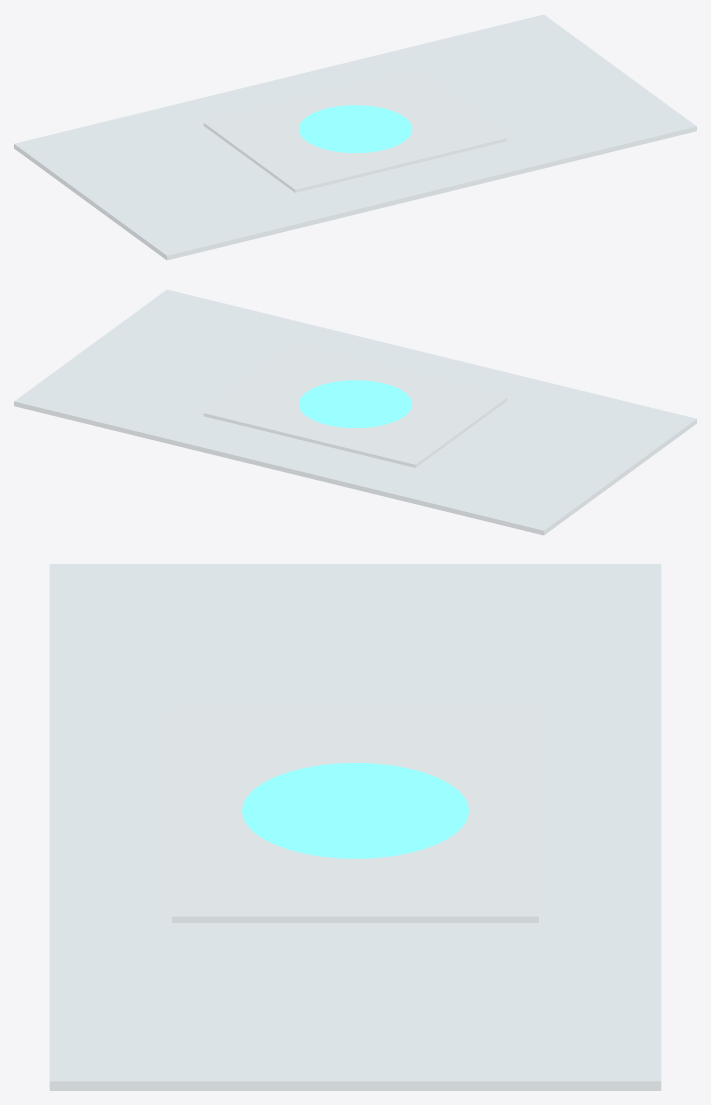
Rendered from microscope-slide.glb.
3 renders of one model, top to bottom at view 1: azimuth 30°, elevation 25°; view 2: azimuth 150°, elevation 25°; view 3: azimuth 270°, elevation 25°, orthographic. The views are drawn at different scales.
Visible parts, largest first — view 1: transparent_microscope_slide, raised_coverslip, glowing_sample_spot; view 2: transparent_microscope_slide, raised_coverslip, glowing_sample_spot; view 3: transparent_microscope_slide, raised_coverslip, glowing_sample_spot.
Part boxes in pixels (x1=…): transparent_microscope_slide: x1=14, y1=15, x2=696, y2=259; raised_coverslip: x1=204, y1=71, x2=506, y2=192; glowing_sample_spot: x1=298, y1=105, x2=412, y2=152; transparent_microscope_slide: x1=14, y1=290, x2=696, y2=534; raised_coverslip: x1=204, y1=346, x2=506, y2=467; glowing_sample_spot: x1=298, y1=380, x2=412, y2=427; transparent_microscope_slide: x1=50, y1=564, x2=660, y2=1090; raised_coverslip: x1=172, y1=710, x2=538, y2=922; glowing_sample_spot: x1=242, y1=763, x2=468, y2=858.
Size of the model in its own units: 14 by 0.27 by 7.
